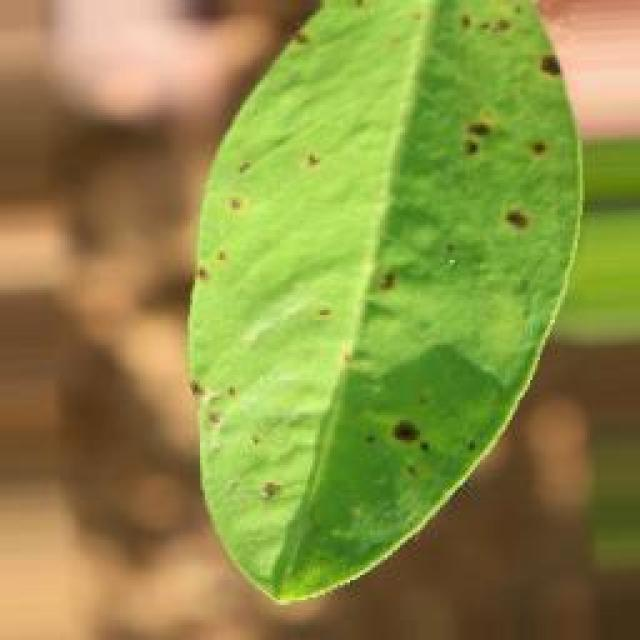Sigatoka: (351, 413, 474, 483), (182, 224, 258, 304), (182, 361, 251, 441), (432, 0, 532, 52), (432, 126, 549, 170), (208, 170, 272, 244), (352, 256, 407, 316), (496, 199, 554, 254), (249, 478, 307, 526), (516, 31, 570, 81), (324, 0, 418, 25), (290, 138, 336, 180), (308, 292, 336, 337), (282, 18, 325, 44)
